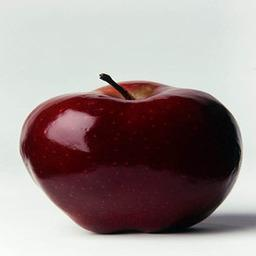apple: (20, 73, 239, 234)
